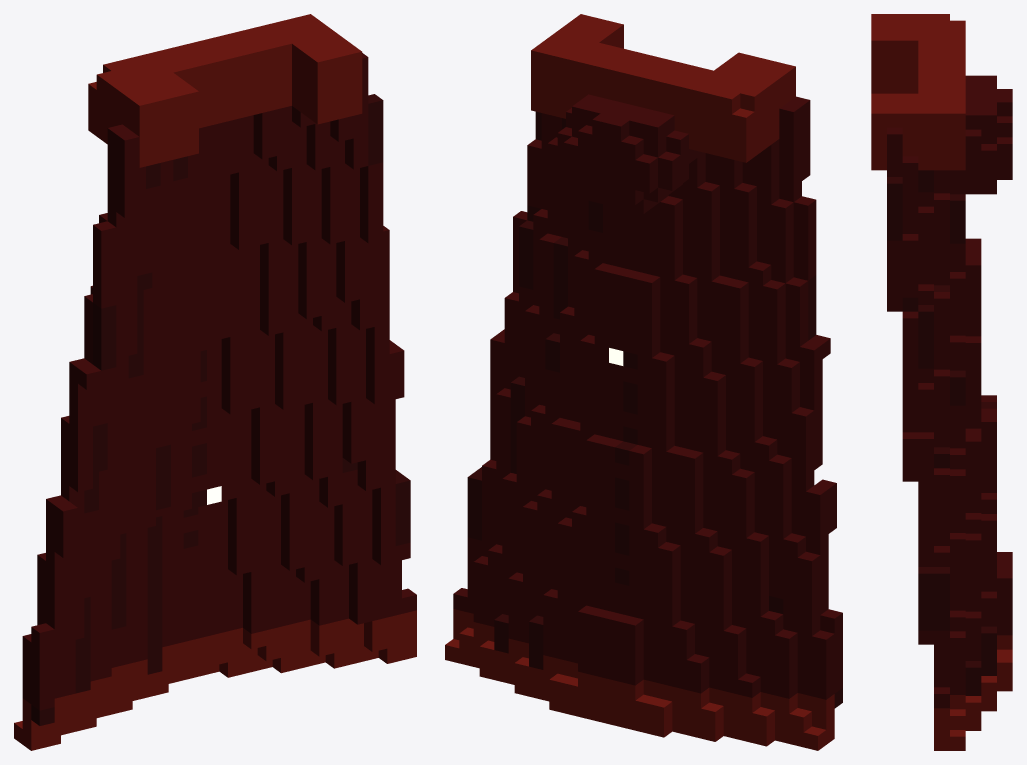
Rendered from cloth_masterwork_cloak_lod1.glb.
3 renders of one model, left to right at view 1: azimuth 30°, elevation 25°; view 2: azimuth 150°, elevation 25°; view 3: azimuth 270°, elevation 25°, orthographic. The views are drawn at different scales.
Visible parts, largest first — view 1: cloth_masterwork_cloak_lod1; view 2: cloth_masterwork_cloak_lod1; view 3: cloth_masterwork_cloak_lod1.
Part boxes in pixels (x1,y1,x2,y2): cloth_masterwork_cloak_lod1: (14, 14, 416, 750); cloth_masterwork_cloak_lod1: (445, 14, 842, 750); cloth_masterwork_cloak_lod1: (871, 14, 1012, 750).
Size of the model in its own units: 0.624 by 1.01 by 0.216.
